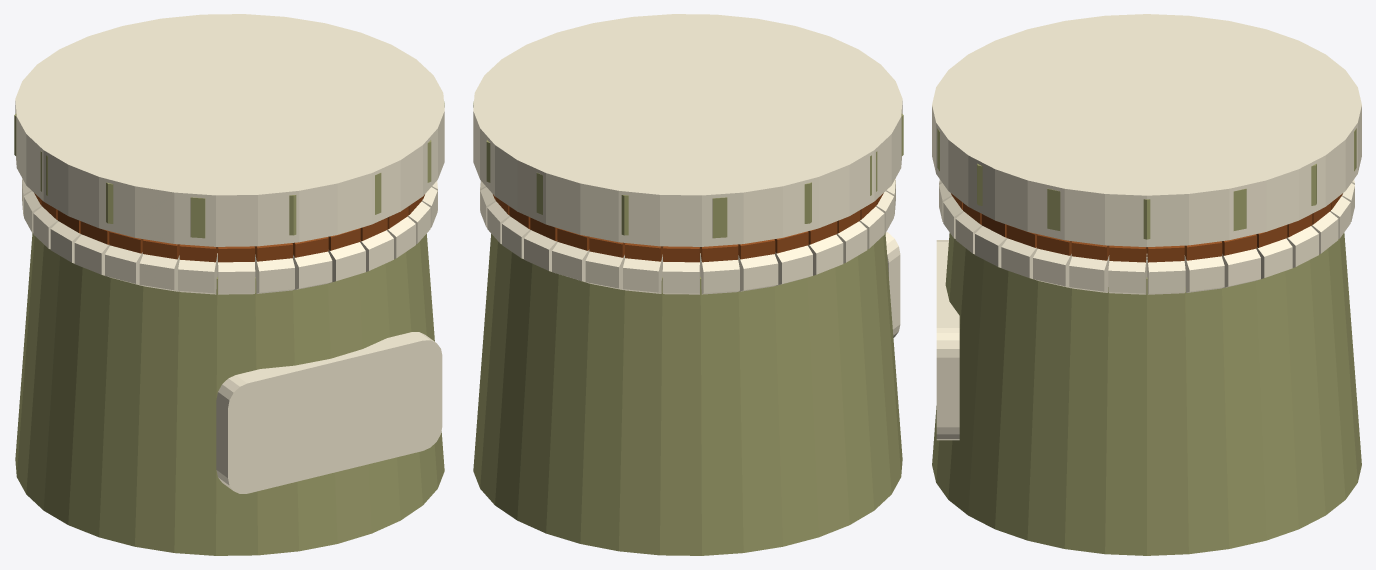
The model's file is sealjar.glb.
3 views of the same model, side by side, from view 1: azimuth 30°, elevation 25°; view 2: azimuth 150°, elevation 25°; view 3: azimuth 270°, elevation 25° (orthographic).
Visible parts, largest first — view 1: jar base, lid, label, shoulder11, shoulder9, shoulder12, shoulder10, shoulder8, shoulder13, shoulder7, shoulder14, shoulder6 (+10 smaller); view 2: jar base, lid, shoulder20, shoulder22, shoulder19, shoulder21, shoulder23, shoulder18, label, shoulder24, shoulder17, shoulder25 (+10 smaller); view 3: jar base, lid, label, shoulder1, shoulder30, shoulder0, shoulder31, shoulder2, shoulder29, shoulder3, shoulder28, shoulder4 (+11 smaller).
Boxes of the visible parts, x1=… form: jar base: x1=15, y1=233, x2=444, y2=555; lid: x1=15, y1=14, x2=444, y2=246; label: x1=216, y1=332, x2=442, y2=493; shoulder11: x1=178, y1=254, x2=217, y2=294; shoulder9: x1=255, y1=254, x2=294, y2=293; shoulder12: x1=139, y1=254, x2=179, y2=291; shoulder10: x1=217, y1=253, x2=255, y2=294; shoulder8: x1=292, y1=251, x2=332, y2=289; shoulder13: x1=105, y1=245, x2=143, y2=285; shoulder7: x1=328, y1=242, x2=365, y2=283; shoulder14: x1=74, y1=234, x2=109, y2=275; shoulder6: x1=360, y1=230, x2=393, y2=271; jar base: x1=473, y1=233, x2=902, y2=555; lid: x1=473, y1=14, x2=902, y2=246; shoulder20: x1=700, y1=254, x2=739, y2=294; shoulder22: x1=623, y1=254, x2=662, y2=293; shoulder19: x1=738, y1=254, x2=778, y2=291; shoulder21: x1=662, y1=253, x2=700, y2=294; shoulder23: x1=585, y1=251, x2=625, y2=289; shoulder18: x1=774, y1=245, x2=812, y2=285; label: x1=885, y1=232, x2=900, y2=337; shoulder24: x1=552, y1=242, x2=589, y2=283; shoulder17: x1=808, y1=234, x2=843, y2=275; shoulder25: x1=524, y1=230, x2=557, y2=271; jar base: x1=932, y1=233, x2=1361, y2=555; lid: x1=932, y1=14, x2=1361, y2=246; label: x1=936, y1=240, x2=959, y2=440; shoulder1: x1=1069, y1=255, x2=1109, y2=292; shoulder30: x1=1184, y1=255, x2=1224, y2=292; shoulder0: x1=1108, y1=254, x2=1146, y2=294; shoulder31: x1=1147, y1=254, x2=1185, y2=294; shoulder2: x1=1033, y1=248, x2=1071, y2=288; shoulder29: x1=1222, y1=248, x2=1260, y2=288; shoulder3: x1=1001, y1=238, x2=1037, y2=278; shoulder28: x1=1256, y1=238, x2=1292, y2=278; shoulder4: x1=975, y1=226, x2=1007, y2=267.
Size of the model in its own units: 1.06 by 0.98 by 1.06.
